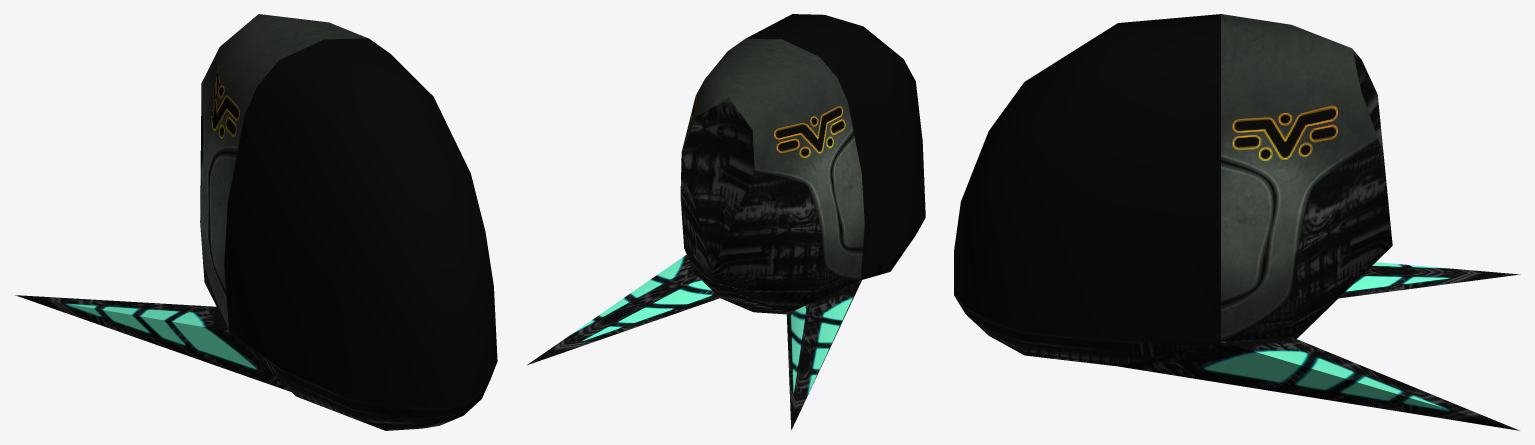
File: burns_body.FBX
The picture shows the model from 3 angles, left to right: view 1: azimuth 30°, elevation 25°; view 2: azimuth 150°, elevation 25°; view 3: azimuth 270°, elevation 25°; orthographic projection. The views are drawn at different scales.
Visible parts, largest first — view 1: canopy, burns_body; view 2: burns_body, canopy; view 3: canopy, burns_body.
Boxes of the visible parts, <box> form: canopy: <box>224,38,497,406</box>; burns_body: <box>15,14,489,430</box>; burns_body: <box>527,38,924,429</box>; canopy: <box>746,14,925,279</box>; canopy: <box>954,14,1220,341</box>; burns_body: <box>955,14,1520,430</box>.
Bounding box in the file's own units: 2.21 × 3.36 × 2.14.
